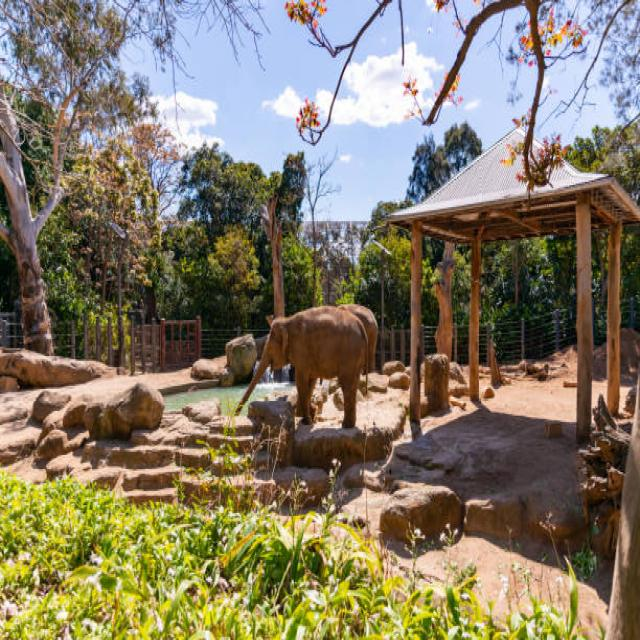Elephant: (240, 296, 382, 438)
